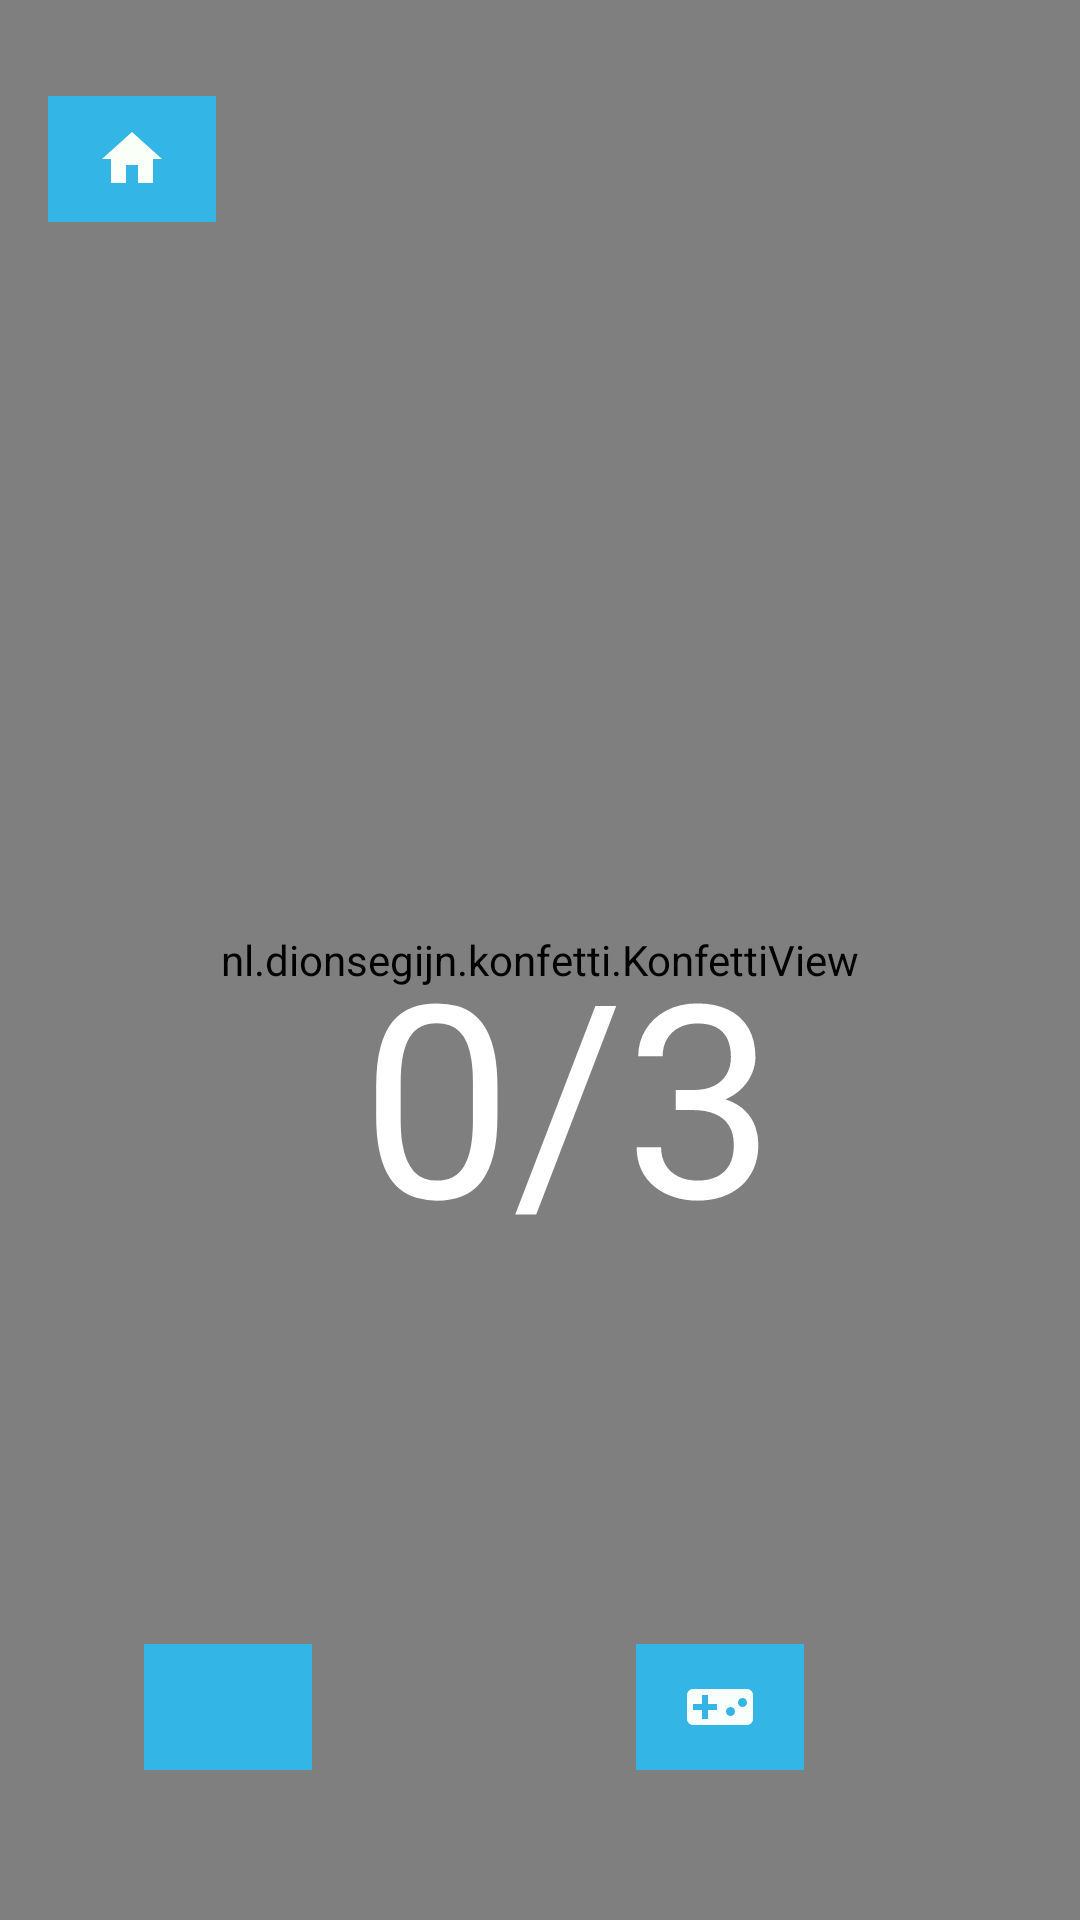

Where icons sit on this 1080 x 1920 app screen, as detection(x1, y1, x2, y2):
home: detection(48, 96, 216, 222)
